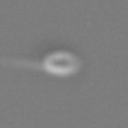normal: (1, 56, 42, 76)
